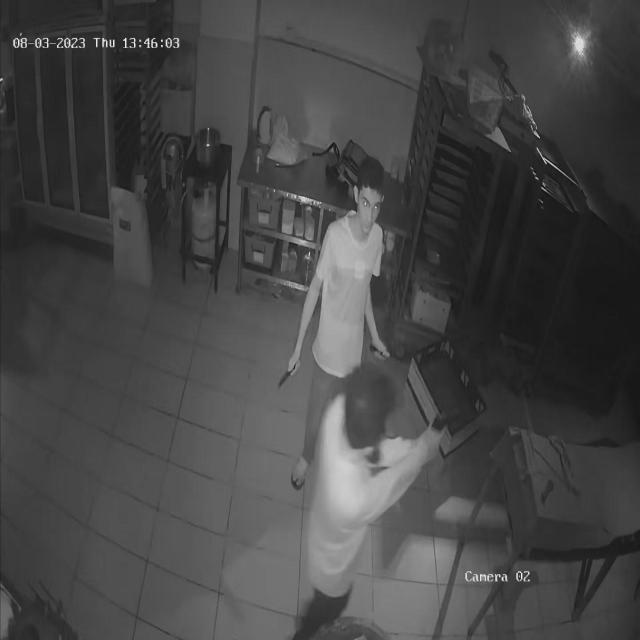Gun: (424, 398, 474, 442)
Knife: (274, 347, 304, 401)
